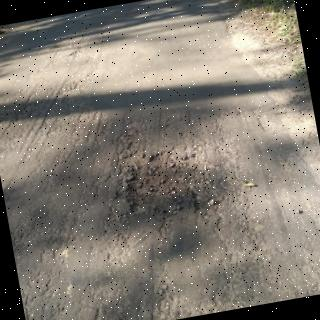pothole: (126, 151, 216, 215)
